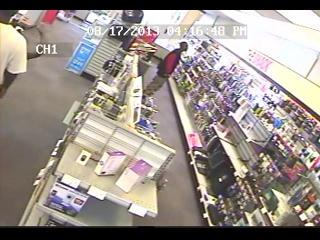Normal: (142, 41, 188, 99), (0, 20, 28, 100)
